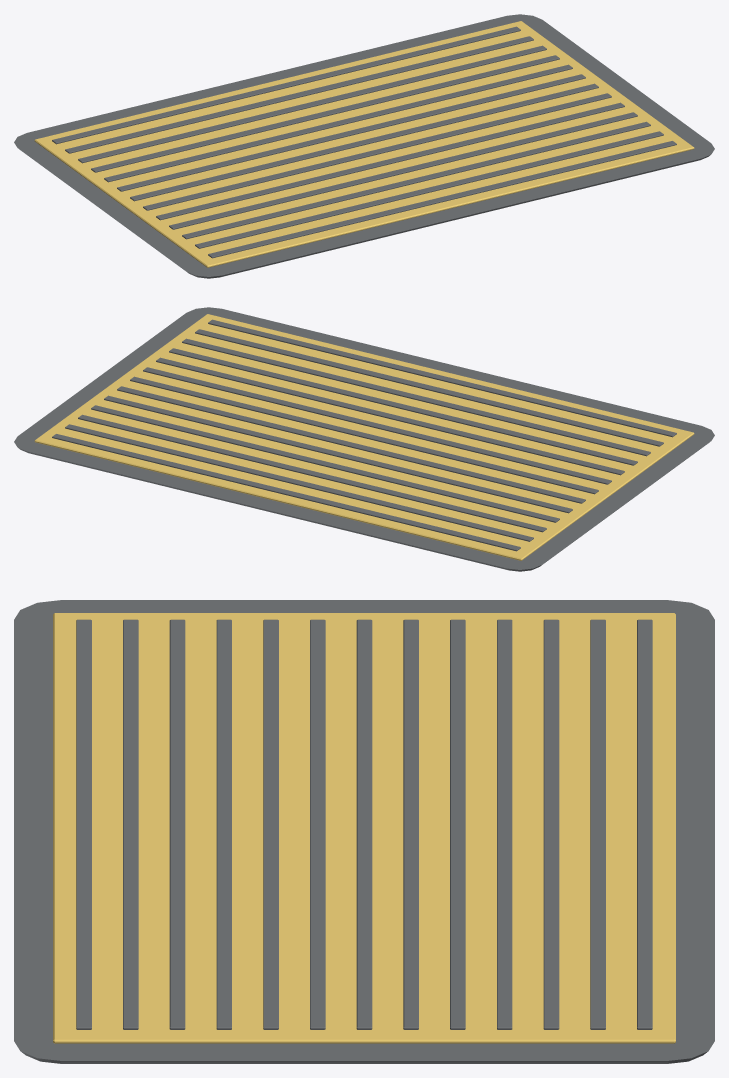
File: clinic-and-veterinary-practice-practice-floor-mat-bc621c49__16836.glb
The picture shows the model from 3 angles, top to bottom: view 1: azimuth 30°, elevation 25°; view 2: azimuth 150°, elevation 25°; view 3: azimuth 270°, elevation 25°; orthographic projection. The views are drawn at different scales.
Parts seen in each view (by area): view 1: practice-floor-mat; view 2: practice-floor-mat; view 3: practice-floor-mat.
Boxes of the visible parts, x1,y1,x2,y2 form: practice-floor-mat: (14, 14, 714, 278); practice-floor-mat: (14, 307, 714, 571); practice-floor-mat: (14, 600, 714, 1063).
Size of the model in its own units: 1.4 by 0.0239 by 0.9001.
